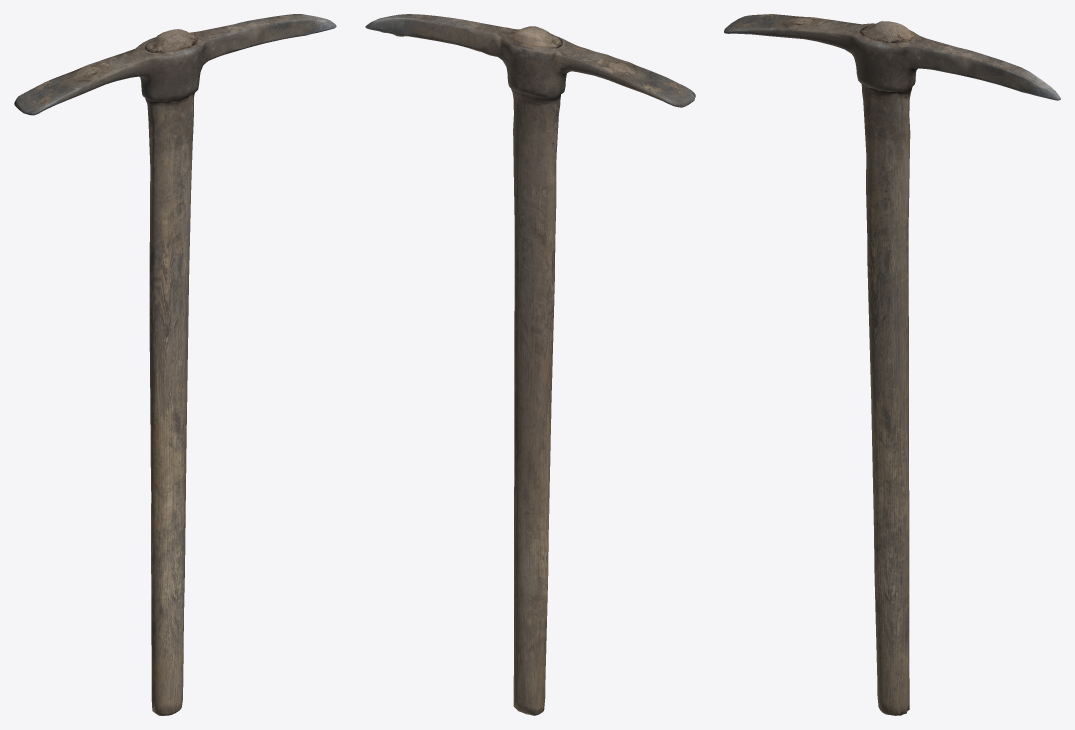
File: picke_dirty.fbx
The picture shows the model from 3 angles, left to right: view 1: azimuth 30°, elevation 25°; view 2: azimuth 150°, elevation 25°; view 3: azimuth 330°, elevation 25°; orthographic projection. The views are drawn at different scales.
Visible parts, largest first — view 1: picke_dirty_01; view 2: picke_dirty_01; view 3: picke_dirty_01.
Boxes of the visible parts, box(x1,y1,x2,y2) form: picke_dirty_01: box(14, 14, 336, 715); picke_dirty_01: box(365, 14, 695, 715); picke_dirty_01: box(724, 14, 1060, 715).
Bounding box in the file's own units: 54.96 × 112 × 6.91.
